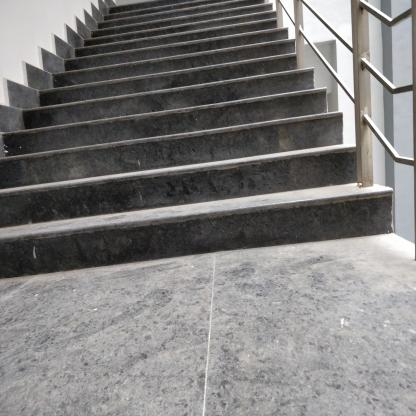stairs: (111, 7, 273, 278)
